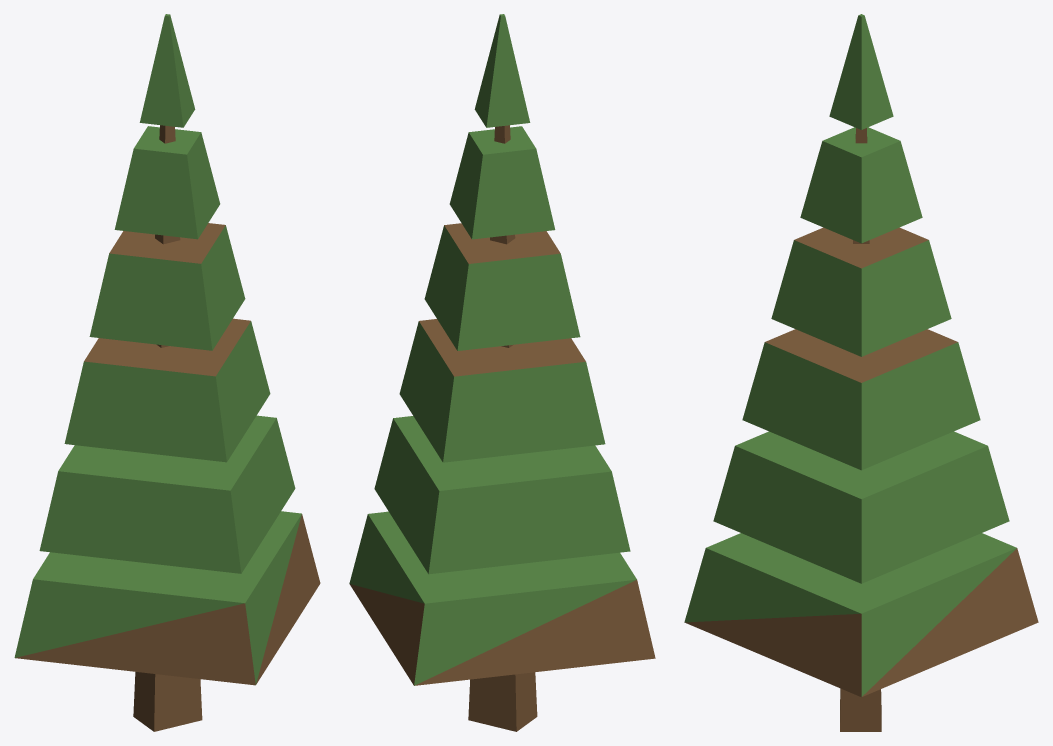
Rendered from tree3d-162.glb.
3 renders of one model, left to right at view 1: azimuth 30°, elevation 25°; view 2: azimuth 150°, elevation 25°; view 3: azimuth 270°, elevation 25°, orthographic.
Parts seen in each view (by area): view 1: tree3d-162; view 2: tree3d-162; view 3: tree3d-162.
Boxes of the visible parts, <box> form: tree3d-162: <box>14,14,320,731</box>; tree3d-162: <box>349,14,655,731</box>; tree3d-162: <box>684,14,1038,731</box>.
Bounding box in the file's own units: 0.4555 × 1 × 0.4555.
